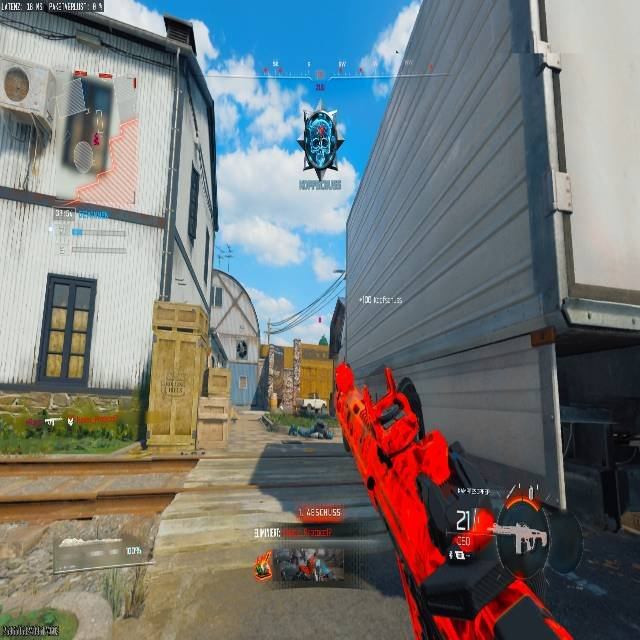head: (254, 550, 274, 579)
player: (298, 101, 346, 180), (236, 339, 247, 359)
